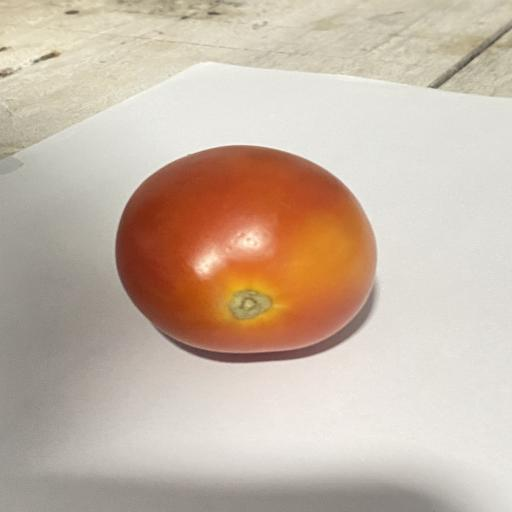ripe: (116, 146, 376, 353)
